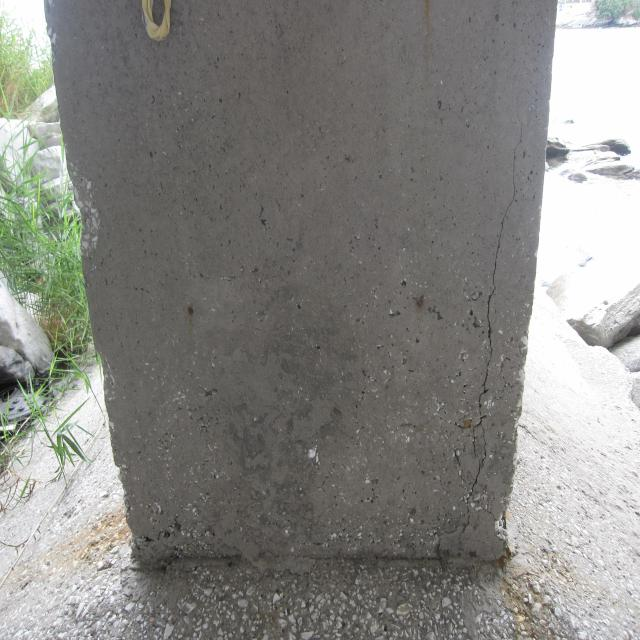concrete spalling: (126, 514, 190, 566), (66, 160, 100, 256), (493, 494, 513, 559)
vertical crack: (428, 95, 524, 553)
